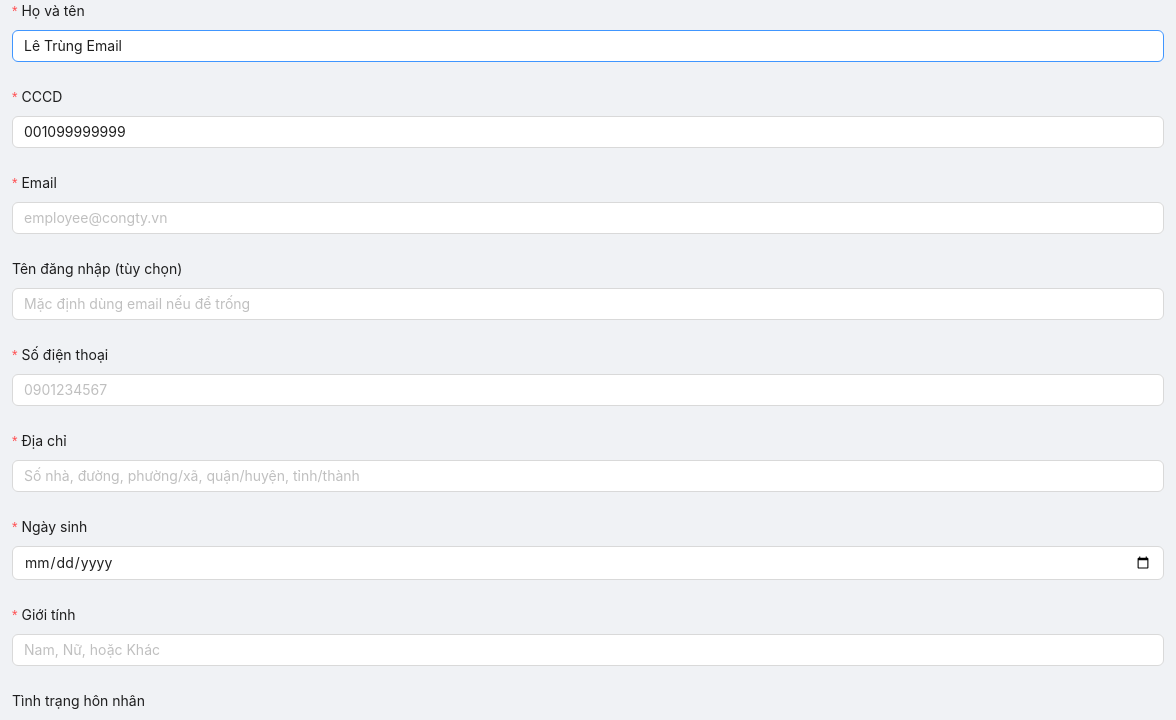
Test: Personnel 2026-11-16 Contract Validation, Concurrency & HR Scope Tests › 2. Form submission, double-submit protection & error state retention › handles create 409 duplicate email: preserves form, allows editing email and resubmits successfully without calling get()
Earlier steps of the test are not shown.
Later steps or results of the test are not shown.
Type "duplicate@company.vn" into the field labelled "Email" at (588, 218), box [12,202,1164,234]
Type "0911222333" into the field labelled "Số điện thoại" at (588, 390), box [12,374,1164,406]
Type "Hà Nội" into the field labelled "Địa chỉ" at (588, 476), box [12,460,1164,492]
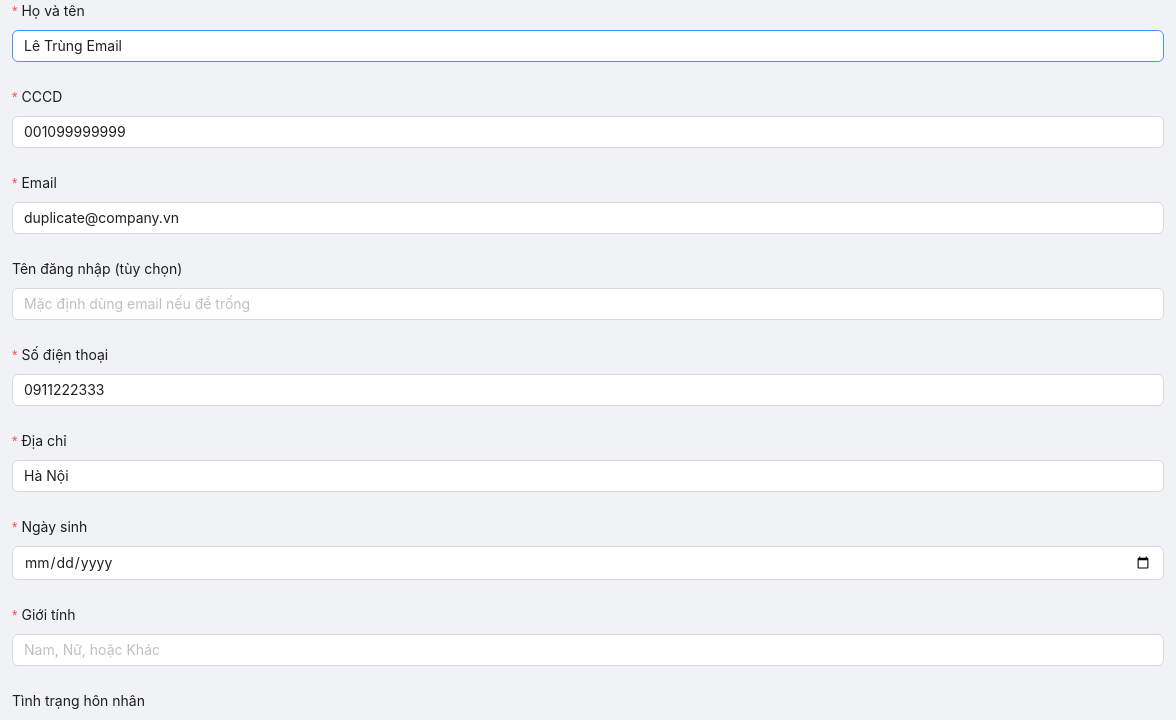
Type "1992-02-02" into the date field labelled "Ngày sinh" at (588, 563), box [12,546,1164,580]
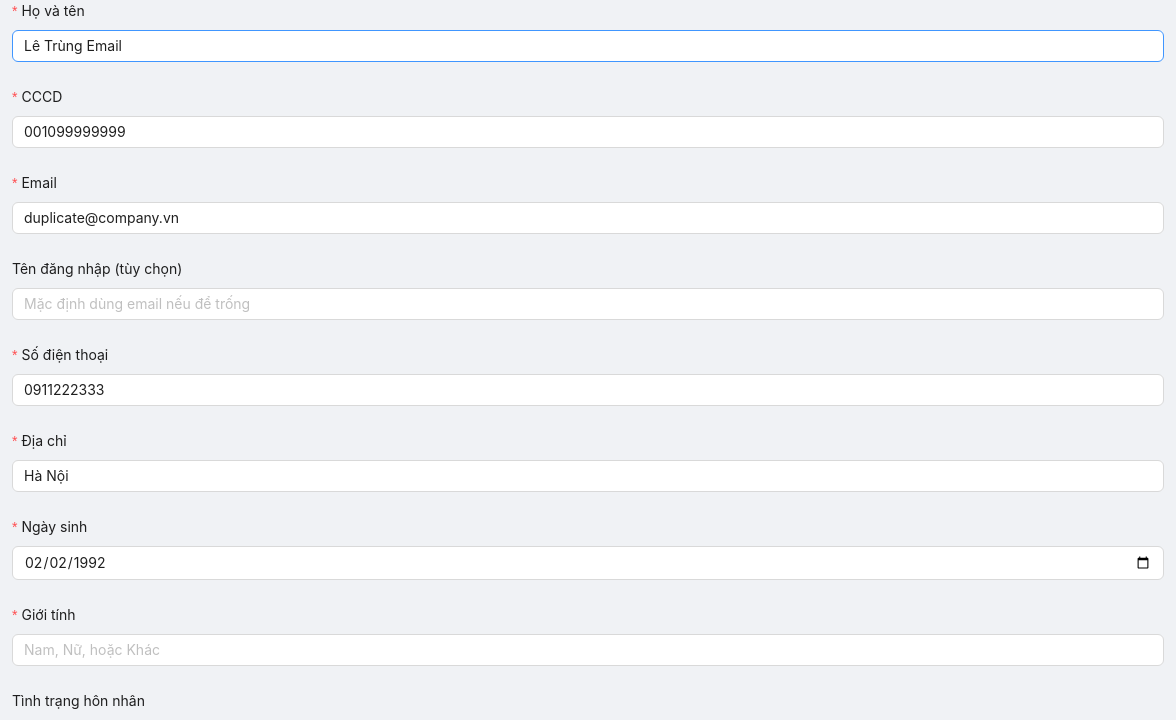
Type "Nam" into the field labelled "Giới tính" at (588, 650), box [12,634,1164,666]
(page scrolled)
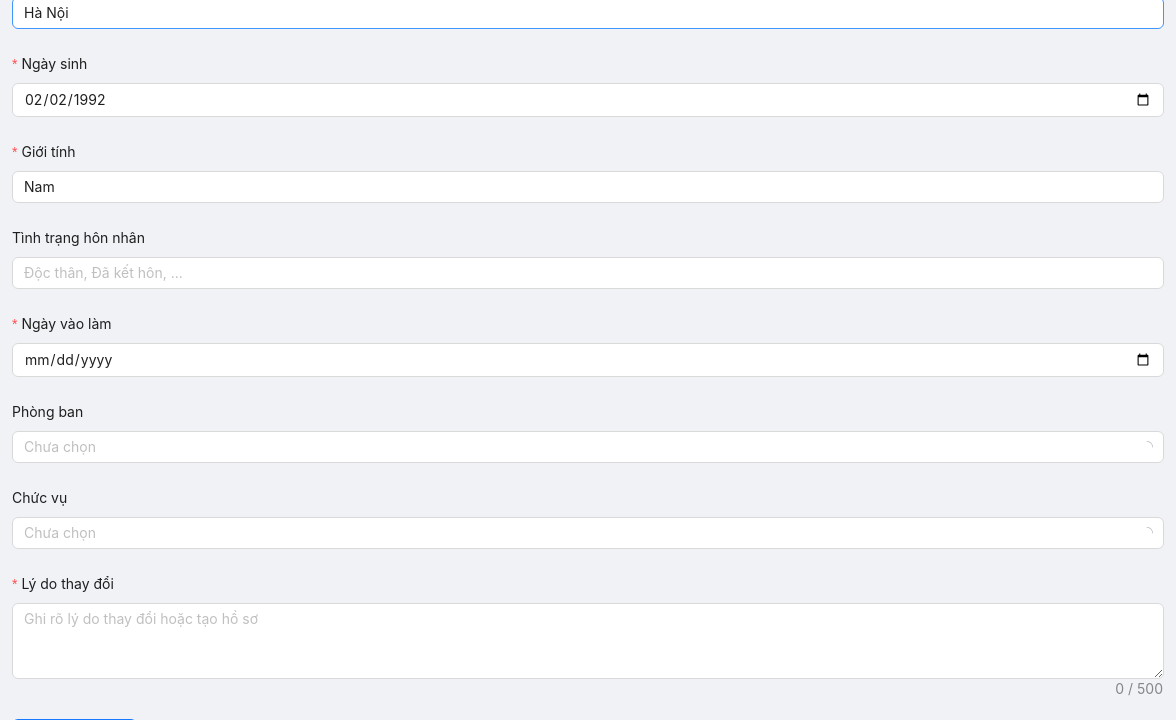
Type "2024-02-02" into the date field labelled "Ngày vào làm" at (588, 360), box [12,343,1164,377]
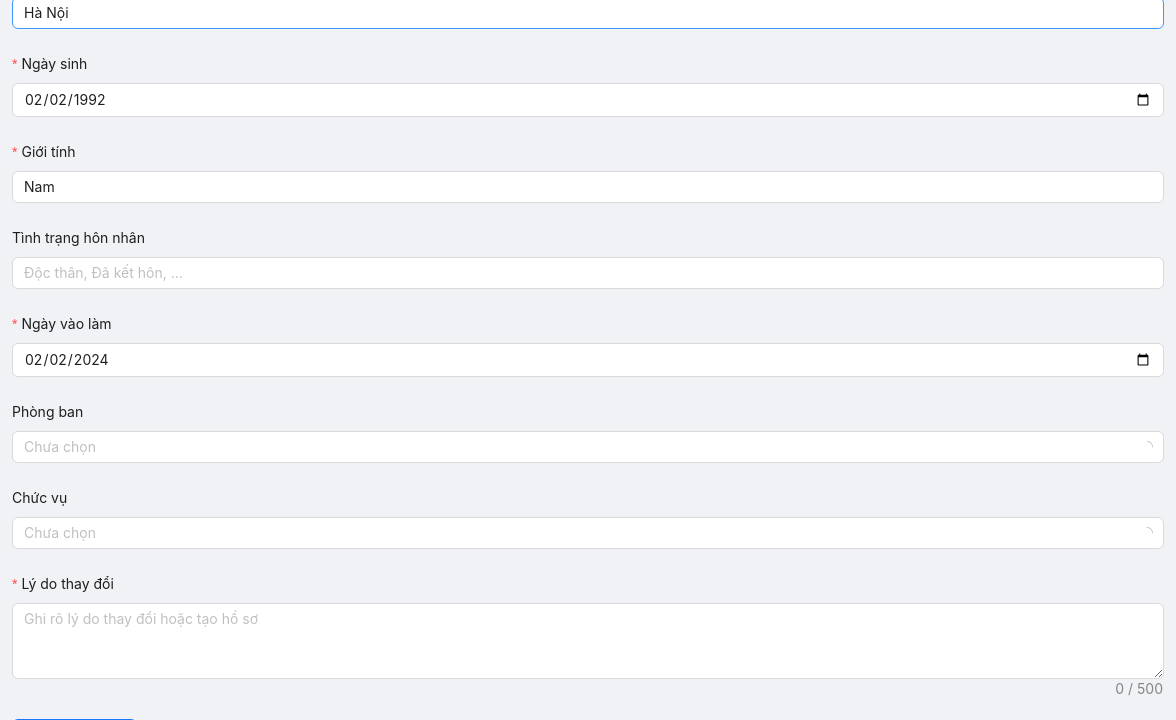
Type "Tạo tài khoản" into the text box labelled "Lý do thay đổi" at (588, 641), box [13,604,1163,678]
(page scrolled)
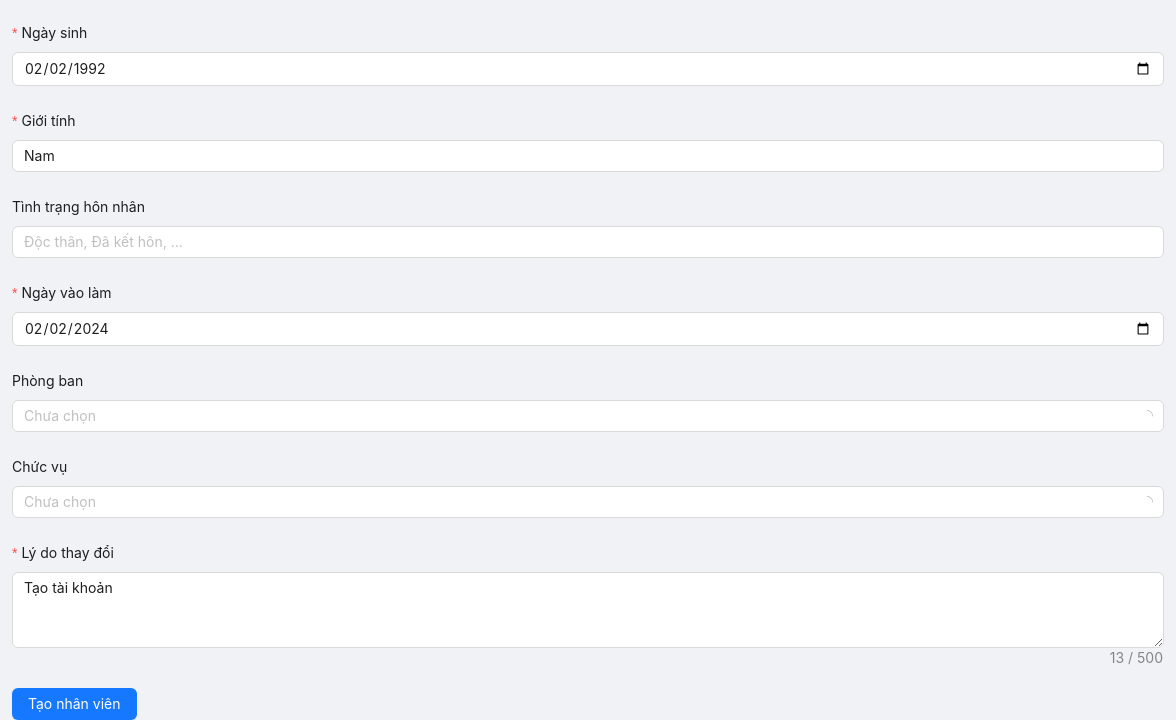
Click the button "Tạo nhân viên" at (74, 704), box [12,688,136,719]
(page scrolled)
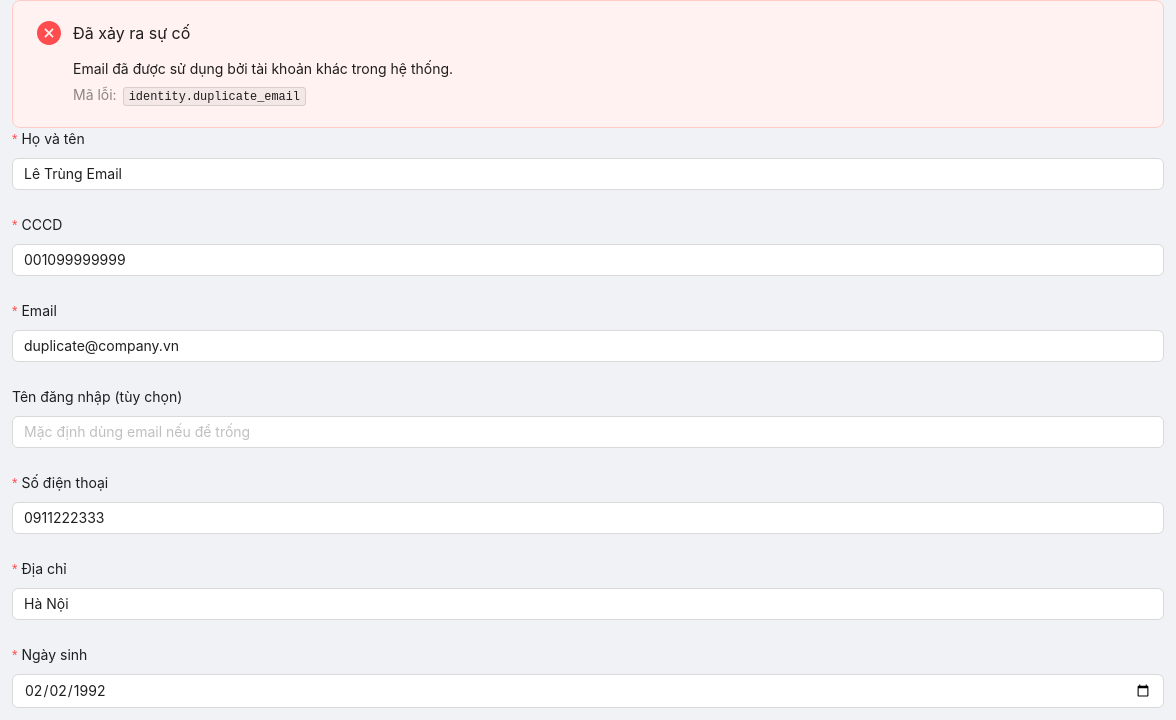
Expected: the text "Email đã được sử dụng bởi tài khoản khác trong hệ thống." is shown, [73,60,453,77]
